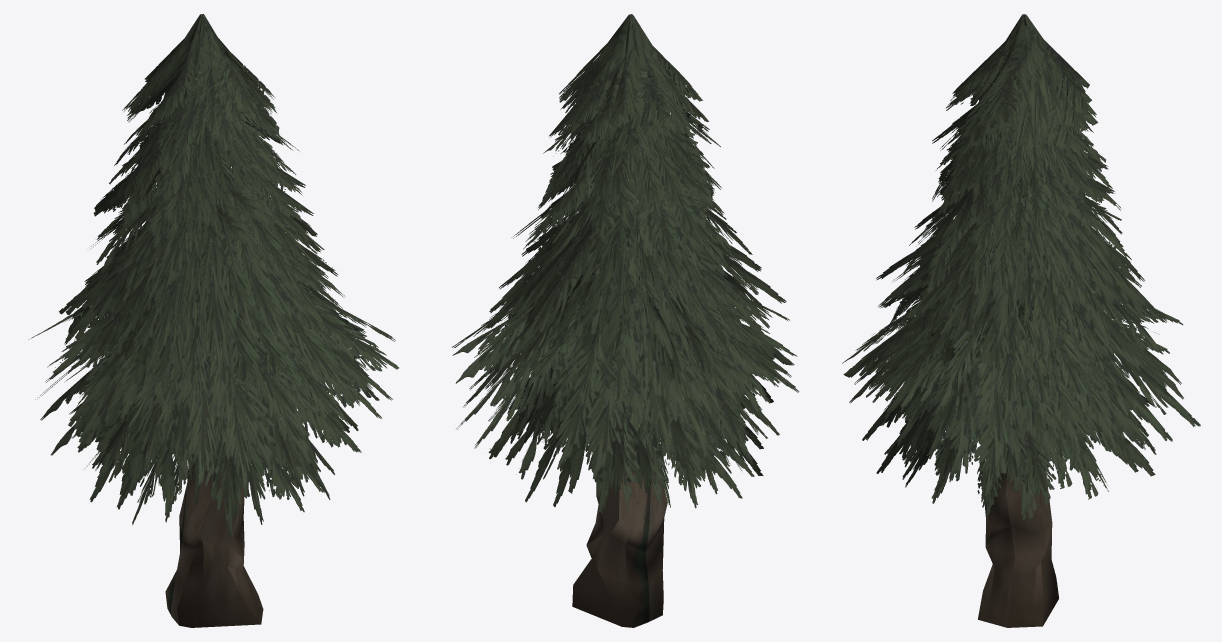
Rendered from PinetreeModel (1).fbx.
The picture shows the model from 3 angles, left to right: view 1: azimuth 30°, elevation 25°; view 2: azimuth 150°, elevation 25°; view 3: azimuth 270°, elevation 25°; orthographic projection. The views are drawn at different scales.
Parts seen in each view (by area): view 1: PineTreeModelFinal; view 2: PineTreeModelFinal; view 3: PineTreeModelFinal.
Part boxes in pixels (x1,y1,x2,y2): PineTreeModelFinal: (28, 14, 398, 627); PineTreeModelFinal: (452, 14, 799, 627); PineTreeModelFinal: (842, 14, 1200, 627).
Bounding box in the file's own units: 803 × 1448 × 832.
2 materials, 2 textured.
